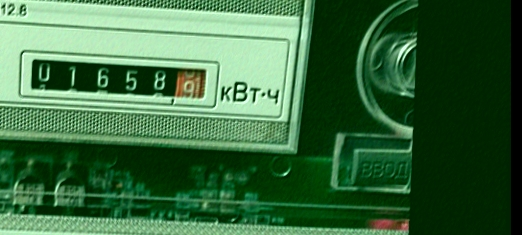0: (37, 60, 51, 83)
1: (67, 65, 78, 87)
5: (124, 68, 139, 92)
6: (95, 66, 110, 88)
8: (152, 68, 167, 91)
9: (180, 78, 195, 100)
screen: (12, 44, 227, 113)
